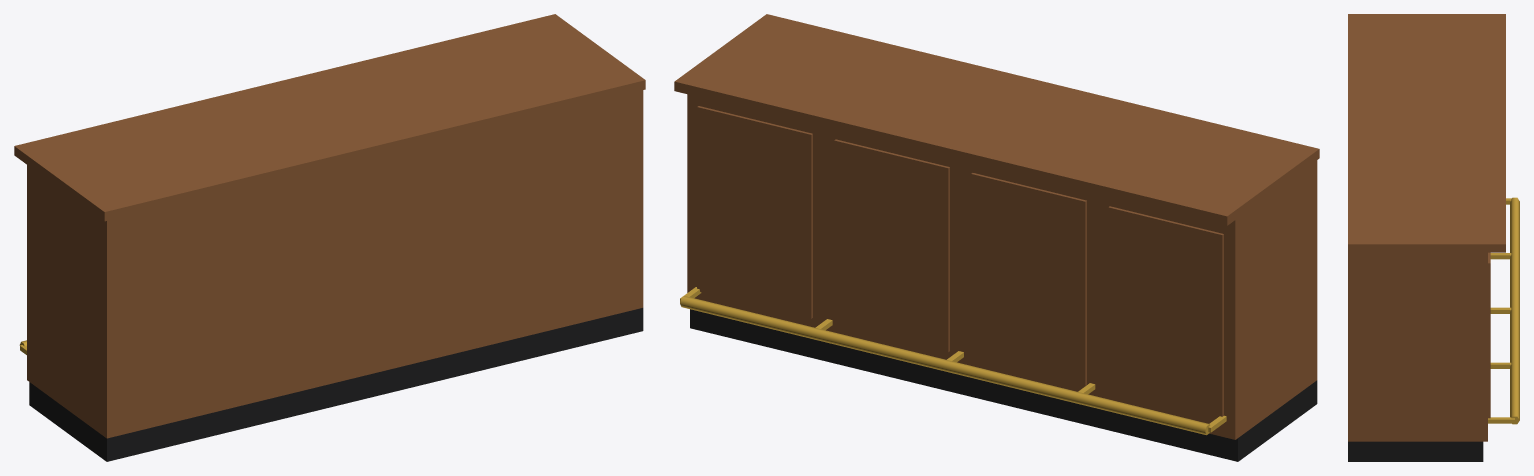
The model's file is parametric-bar-3rd.glb.
The picture shows the model from 3 angles, left to right: view 1: azimuth 30°, elevation 25°; view 2: azimuth 150°, elevation 25°; view 3: azimuth 270°, elevation 25°; orthographic projection. The views are drawn at different scales.
Parts seen in each view (by area): view 1: parametric-bar-3rd; view 2: parametric-bar-3rd; view 3: parametric-bar-3rd.
Part boxes in pixels (x1,y1,x2,y2): parametric-bar-3rd: (14, 14, 645, 461); parametric-bar-3rd: (674, 14, 1319, 461); parametric-bar-3rd: (1348, 14, 1519, 461).
Size of the model in its own units: 2.42 by 1.07 by 0.762.
